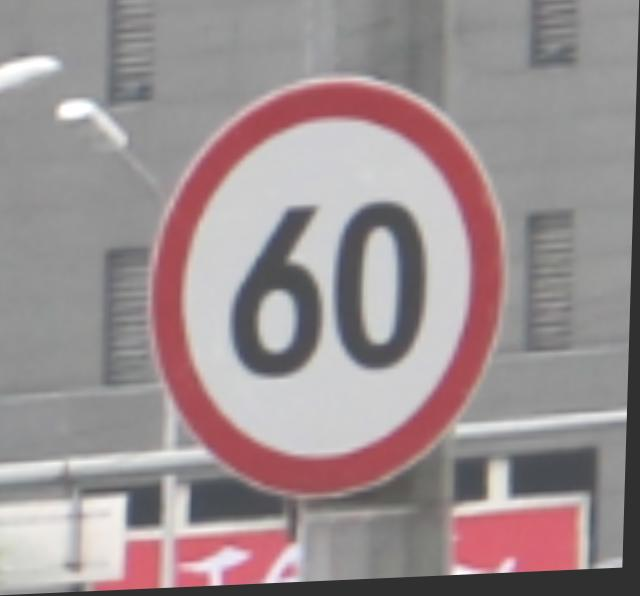limit60: (136, 61, 516, 518)
